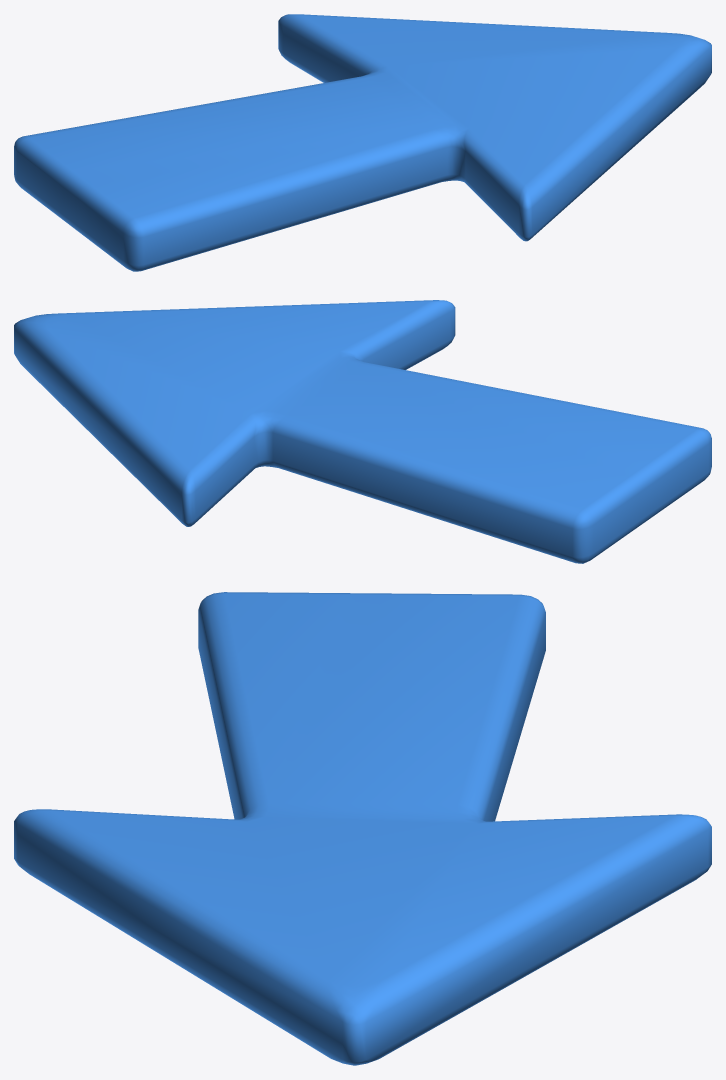
File: direction_arrow6.glb
3 renders of one model, top to bottom at view 1: azimuth 30°, elevation 25°; view 2: azimuth 150°, elevation 25°; view 3: azimuth 270°, elevation 25°, orthographic. The views are drawn at different scales.
Visible parts, largest first — view 1: Arrow_Material.001_0.001; view 2: Arrow_Material.001_0.001; view 3: Arrow_Material.001_0.001.
Part boxes in pixels (box(x1,y1,x2,y2)): Arrow_Material.001_0.001: box(14, 14, 711, 271); Arrow_Material.001_0.001: box(14, 300, 711, 563); Arrow_Material.001_0.001: box(14, 592, 711, 1065).
Bounding box in the file's own units: 3.02 × 0.236 × 2.11.
